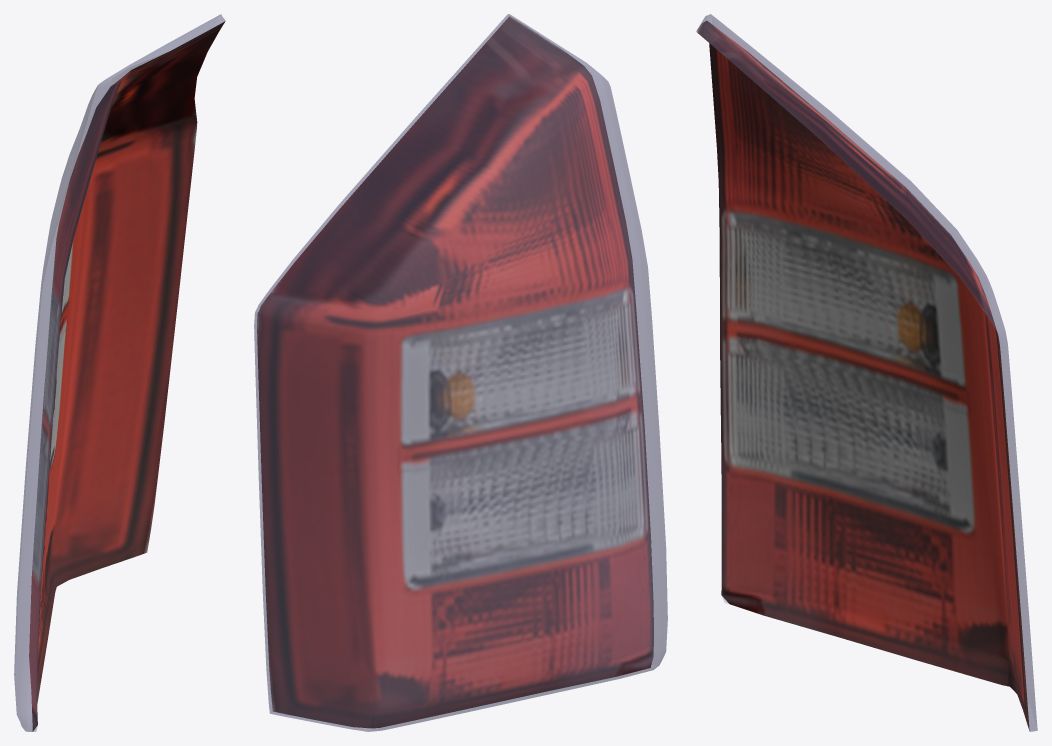
3 renders of one model, left to right at view 1: azimuth 30°, elevation 25°; view 2: azimuth 150°, elevation 25°; view 3: azimuth 270°, elevation 25°, orthographic. The views are drawn at different scales.
Visible parts, largest first — view 1: J220_541C_L_J220_541C_L_2_N, J220_541C_L_1_DTaSI_J220_541C_L; view 2: J220_541C_L_1_DTaSI_J220_541C_L, J220_541C_L_J220_541C_L_2_N; view 3: J220_541C_L_J220_541C_L_2_N, J220_541C_L_1_DTaSI_J220_541C_L.
Boxes of the visible parts, x1,y1,x2,y2 form: J220_541C_L_J220_541C_L_2_N: (29, 21, 225, 730); J220_541C_L_1_DTaSI_J220_541C_L: (14, 14, 225, 731); J220_541C_L_1_DTaSI_J220_541C_L: (254, 14, 667, 731); J220_541C_L_J220_541C_L_2_N: (257, 15, 653, 728); J220_541C_L_J220_541C_L_2_N: (696, 20, 1029, 730); J220_541C_L_1_DTaSI_J220_541C_L: (696, 14, 1037, 731).
Bounding box in the file's own units: 22.04 × 45.04 × 21.03.
